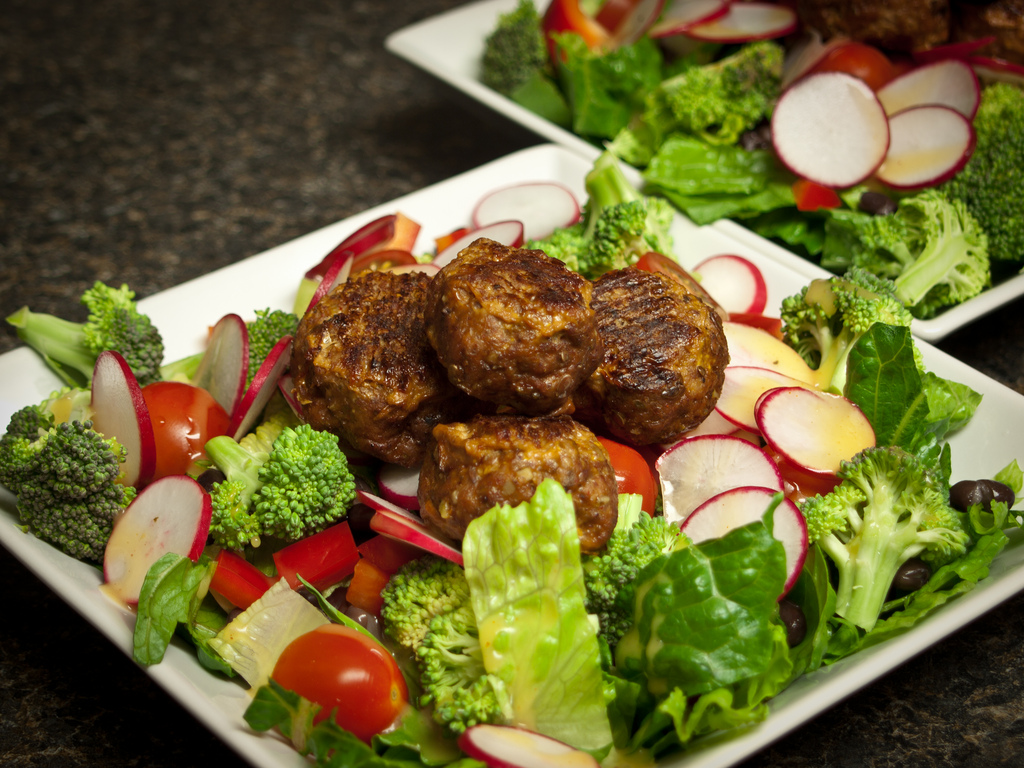chopped lettuce: (631, 514, 776, 749), (470, 508, 591, 734)
meatballs: (288, 271, 431, 442), (575, 277, 727, 435), (435, 265, 592, 413), (440, 425, 618, 549)
